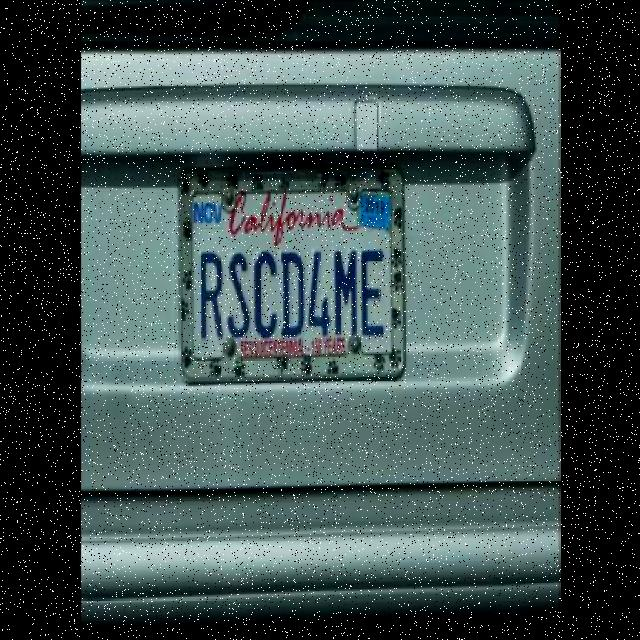licenseplate: (168, 164, 408, 385)
